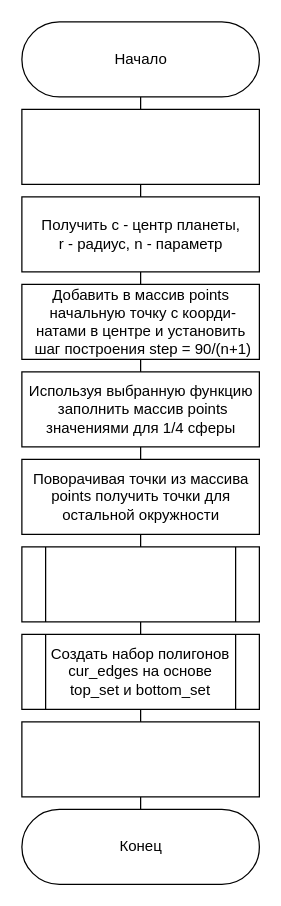
Image size: 281x906. Some labels were removed from this diagram. The shapes that lost their labels are listed below. From the top down, each one's centre as x and y in pixels, then its label:
At point 140,146: "Инициализировать массивы point и edges".
At point 140,584: "Сформировать массивы top_set и bottom_set".
At point 140,759: "Добавить в массив edges набор полигонов cur_edges".
